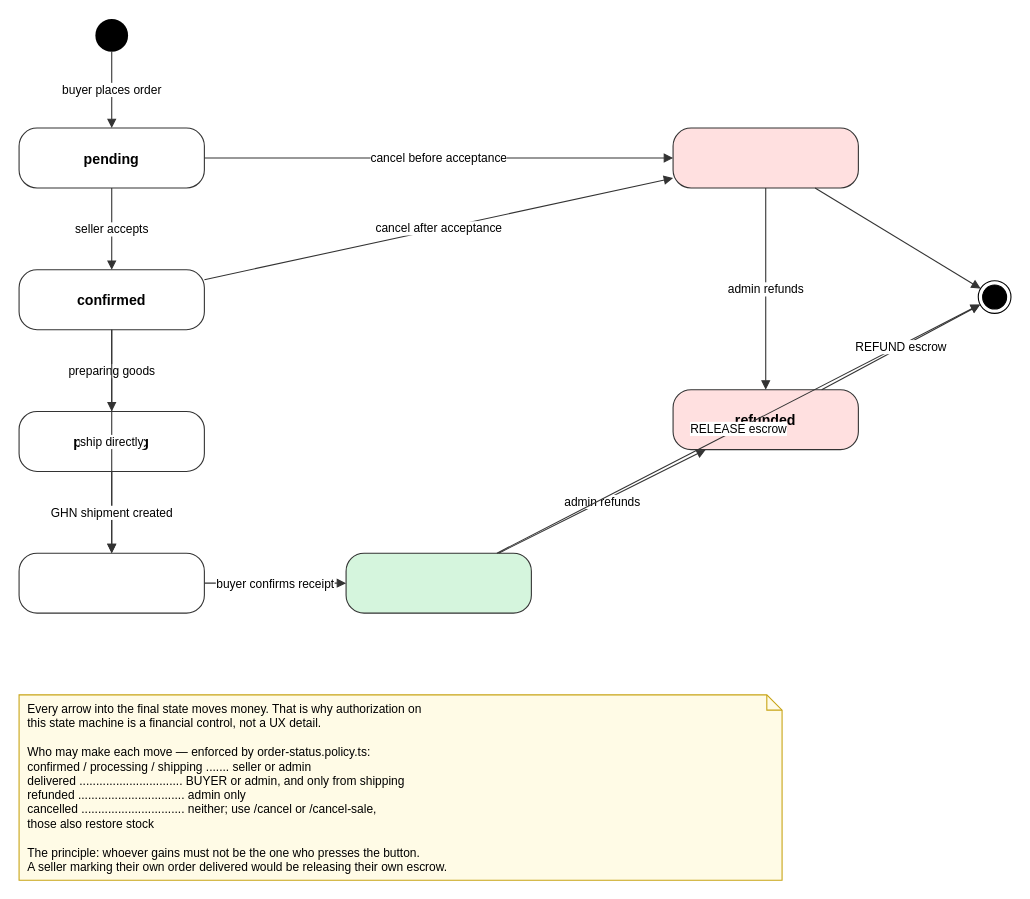
This 1030x899 diagram has some shape labels left out. The box of each missing label's shape, as (x1, y1, x2, y2) in pixels:
cancelled: (672, 127, 858, 188)
delivered: (345, 552, 531, 613)
shipping: (18, 552, 204, 613)
